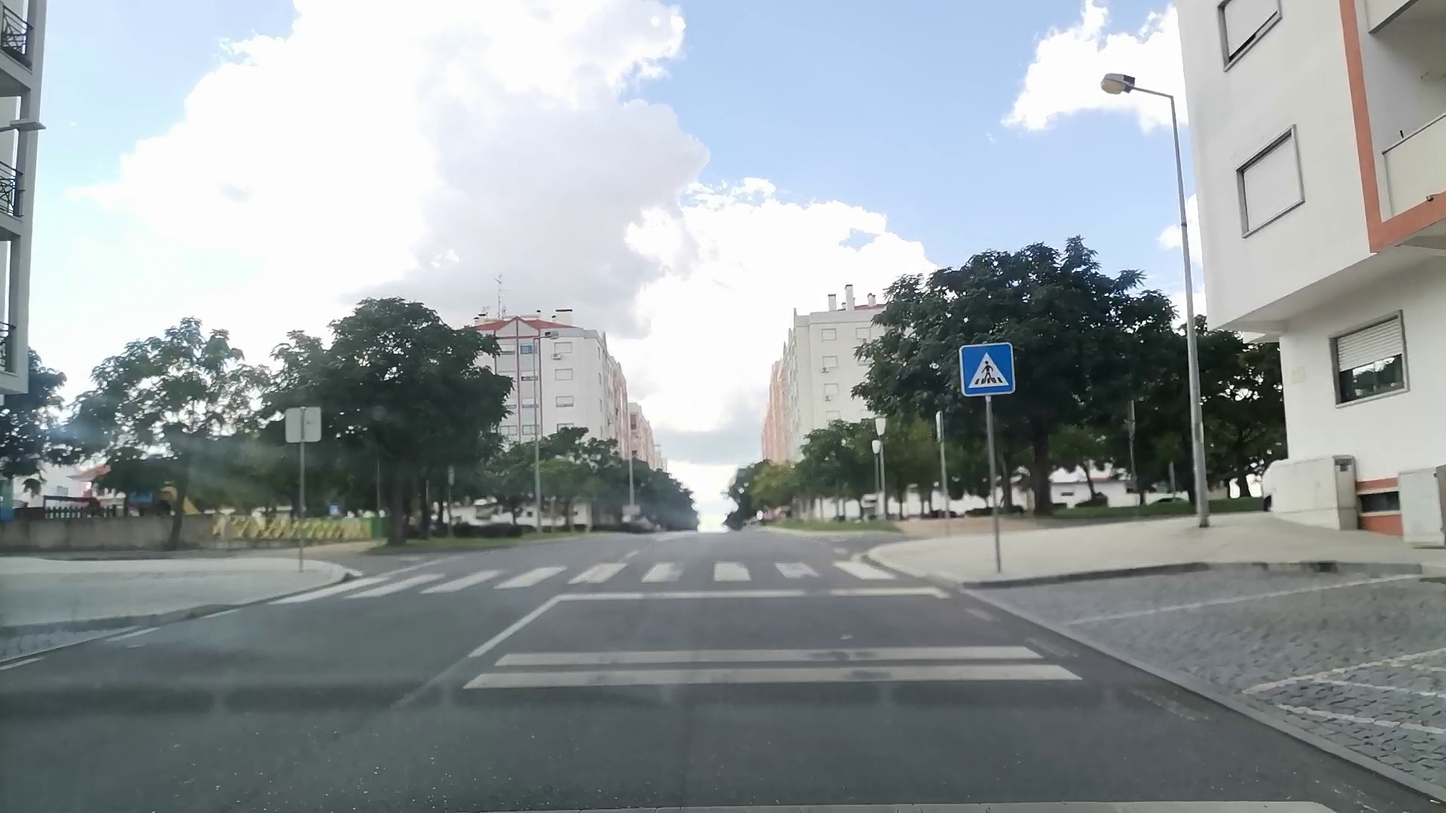Stairs: (276, 560, 899, 606)
